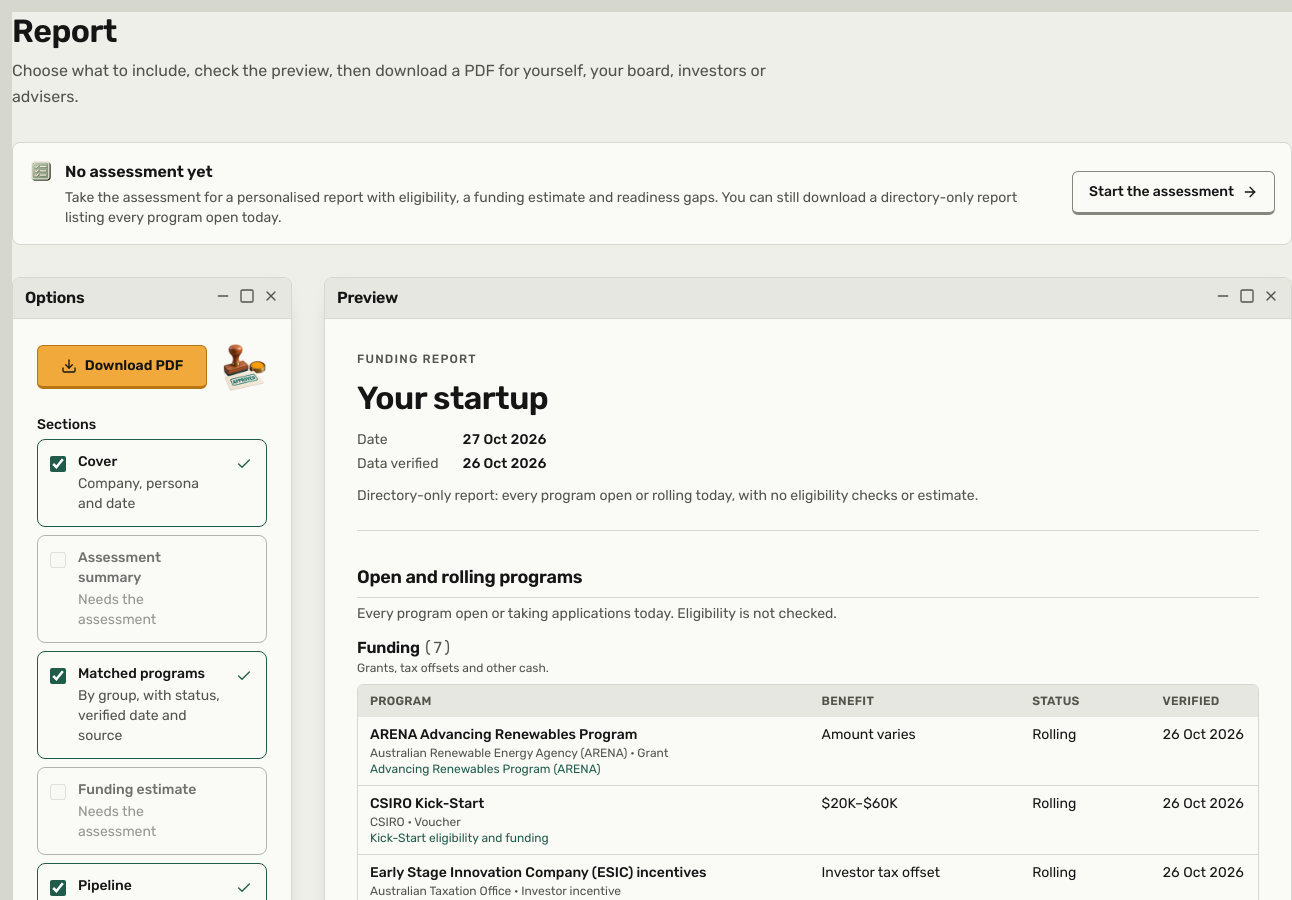
Test: ReportBuilder › keeps focus on Download PDF when Try again is pressed
Click the button "Download PDF": [122, 367] box [37, 345, 207, 389]
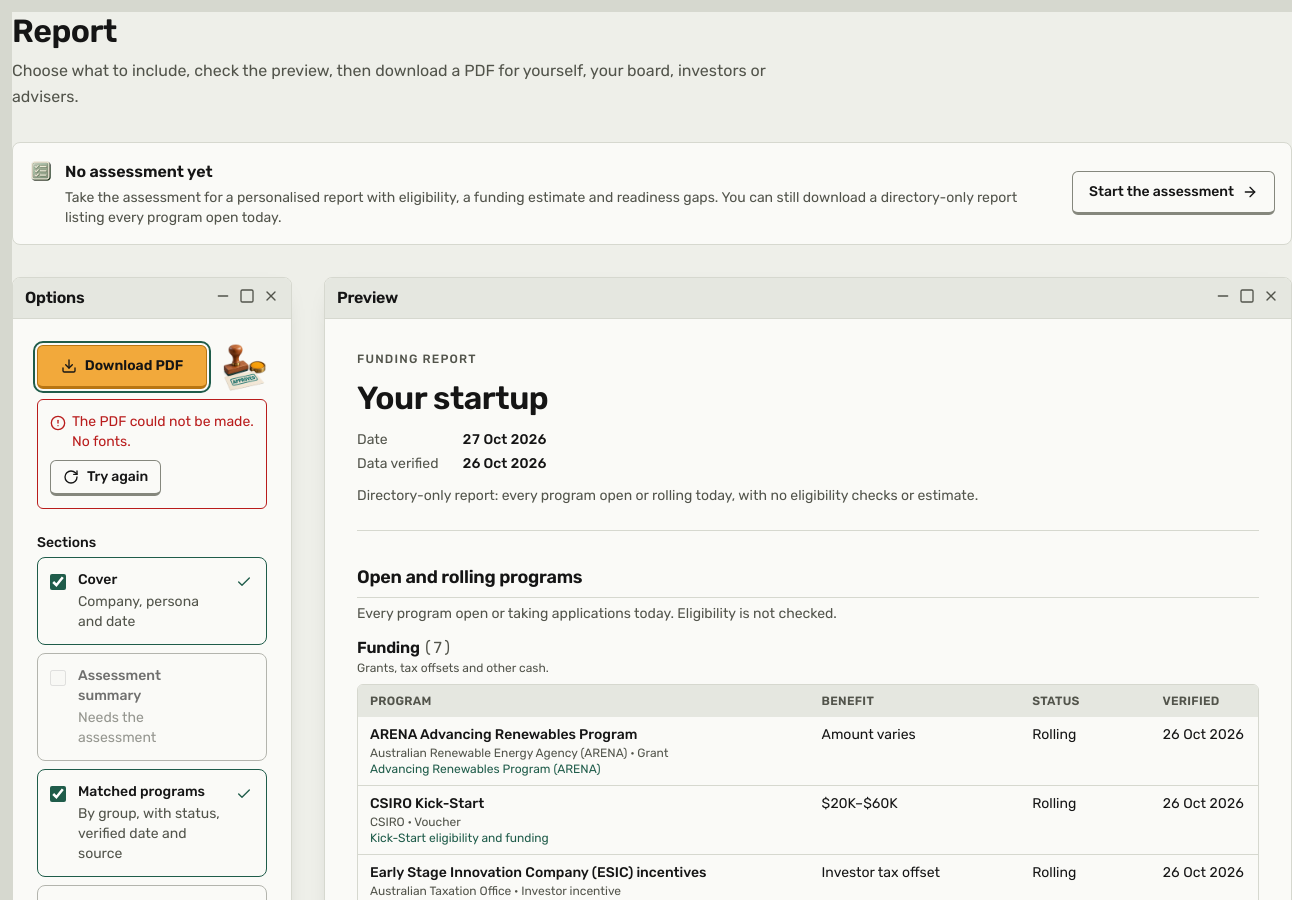
Expected: the message shows "The PDF could not be made. No fonts.", [37, 399, 267, 509]
Expected: the button "Try again" is enabled
Click the button "Try again": [106, 478] box [50, 460, 161, 496]
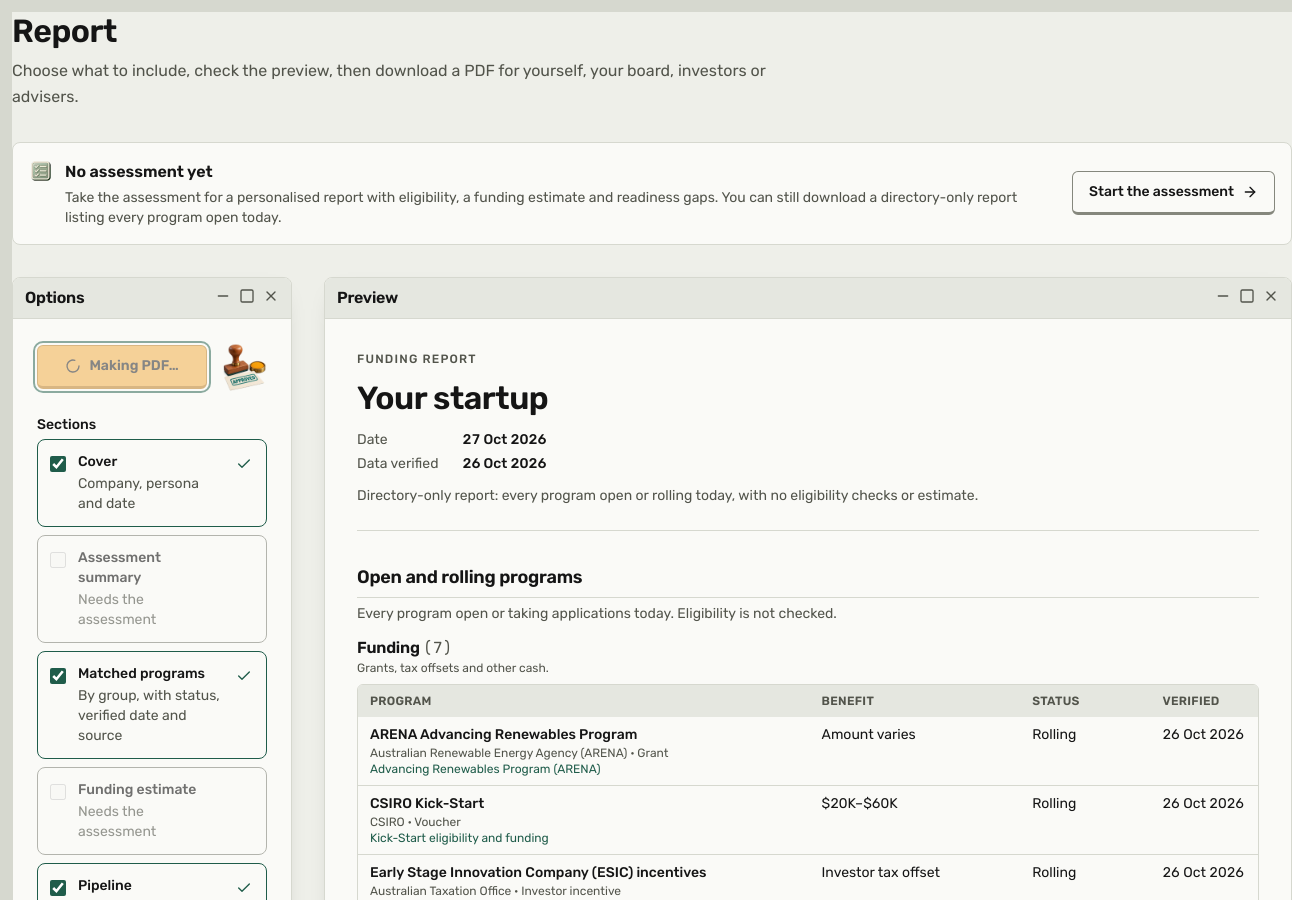
Expected: the message "The PDF could not be made. No fonts. Try again" is gone
